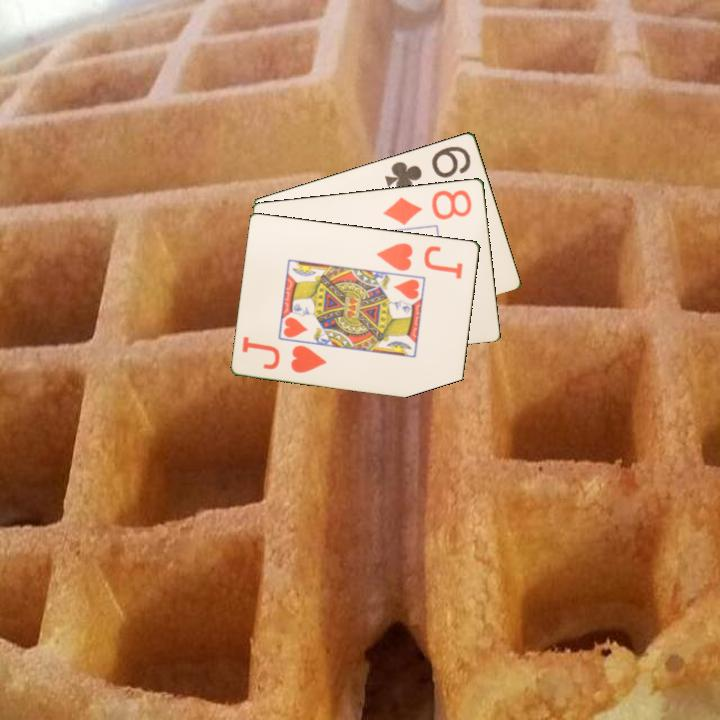6c: (381, 142, 474, 195)
8d: (380, 186, 475, 227)
Jh: (373, 239, 466, 281), (287, 341, 330, 376)
